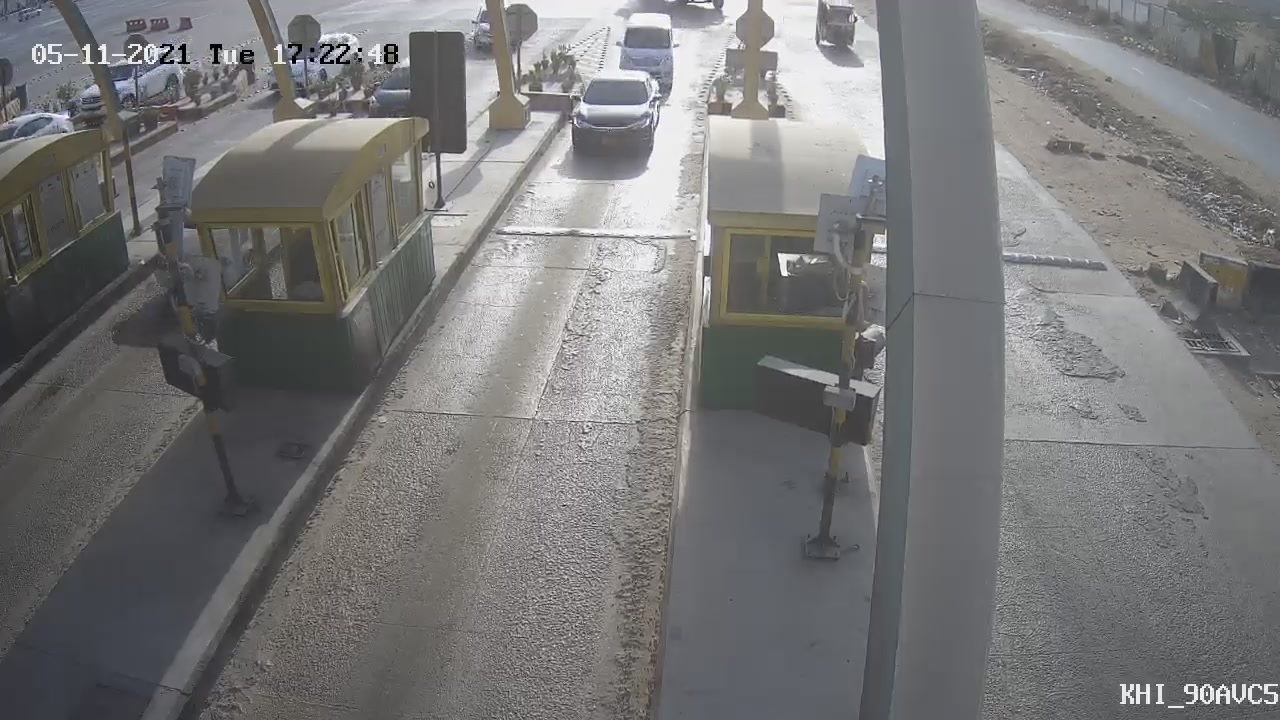F1: (551, 61, 674, 174)
